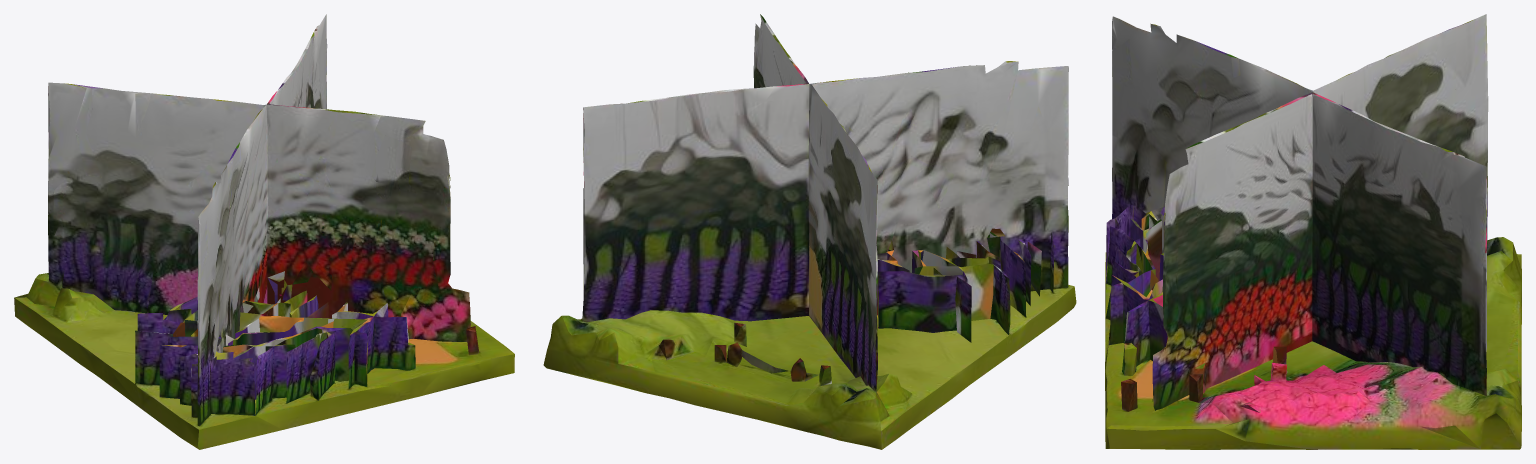
File: oishi-park.glb
3 renders of one model, left to right at view 1: azimuth 30°, elevation 25°; view 2: azimuth 150°, elevation 25°; view 3: azimuth 270°, elevation 25°, orthographic. The views are drawn at different scales.
Visible parts, largest first — view 1: logan-textured.obj; view 2: logan-textured.obj; view 3: logan-textured.obj.
Boxes of the visible parts, x1=… form: logan-textured.obj: x1=14, y1=14, x2=514, y2=449; logan-textured.obj: x1=543, y1=14, x2=1076, y2=449; logan-textured.obj: x1=1105, y1=14, x2=1521, y2=449.
Bounding box in the file's own units: 1 × 0.717 × 0.9946.
1 material, 1 textured.
